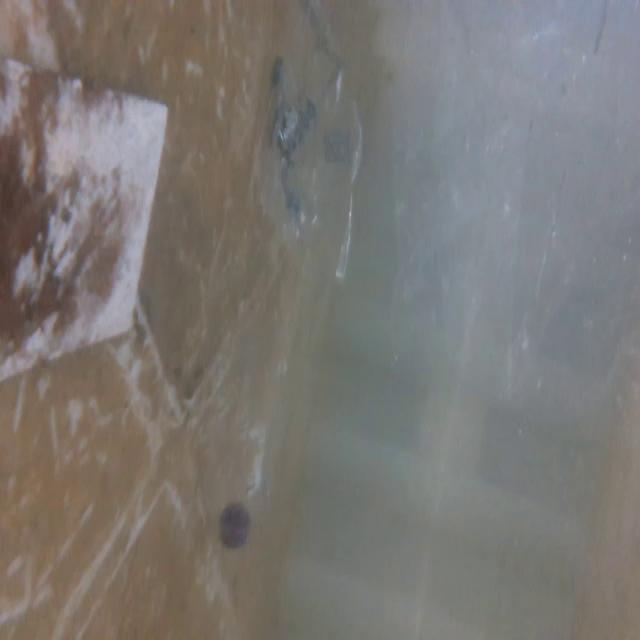metal: (0, 74, 166, 374)
plastic bags: (400, 0, 640, 457), (256, 0, 371, 304)
plastic bottle: (202, 336, 291, 581)
